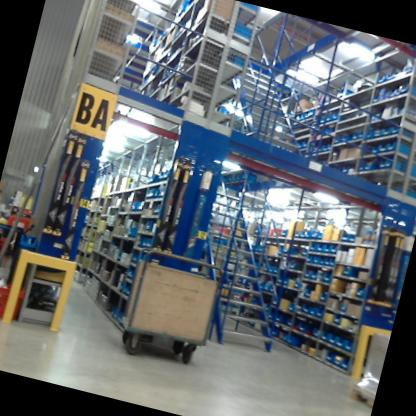forklift: (333, 221, 414, 402)
pallet: (343, 374, 379, 410)
small_load_carrier: (0, 273, 32, 328)
